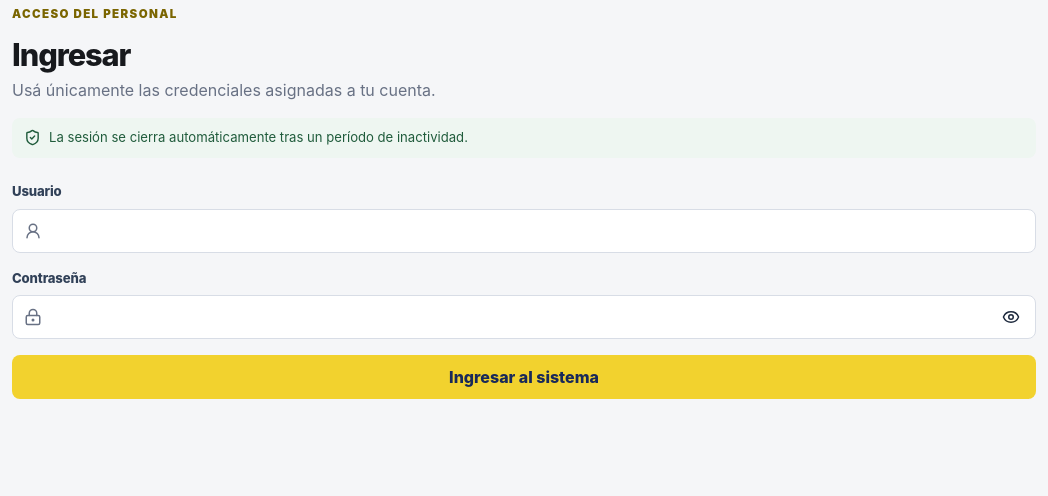
Test: LoginPage › valida credenciales obligatorias antes de invocar el servicio
Click the button "Ingresar al sistema": (524, 377) top-left (12, 355), bottom-right (1036, 399)
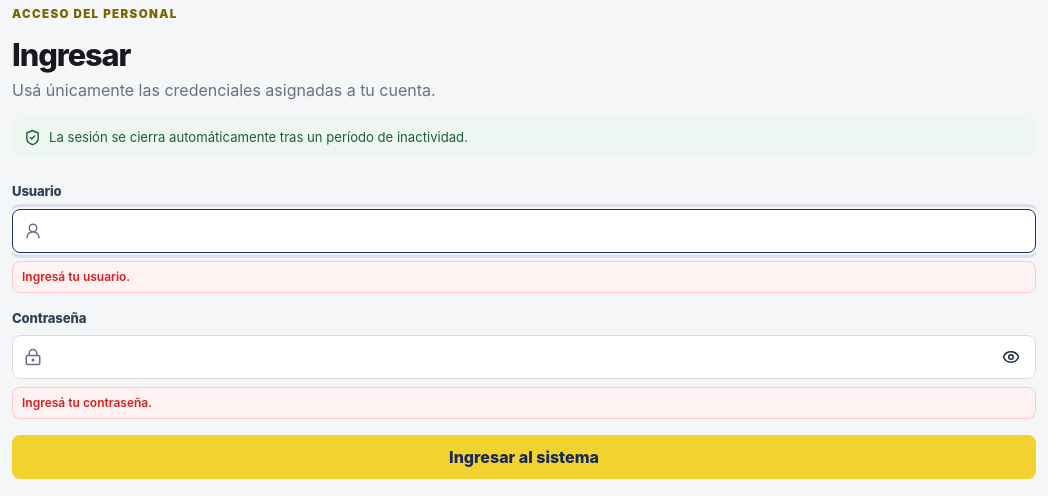
Now the text "Ingresá tu usuario." is shown, box top-left (12, 260), bottom-right (1036, 292)
Now the text "Ingresá tu contraseña." is shown, box top-left (12, 387), bottom-right (1036, 419)
